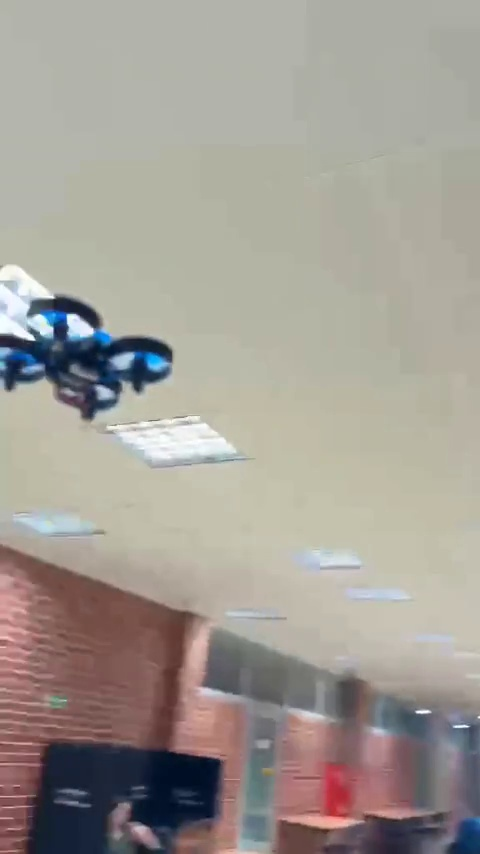drone: (2, 294, 177, 433)
